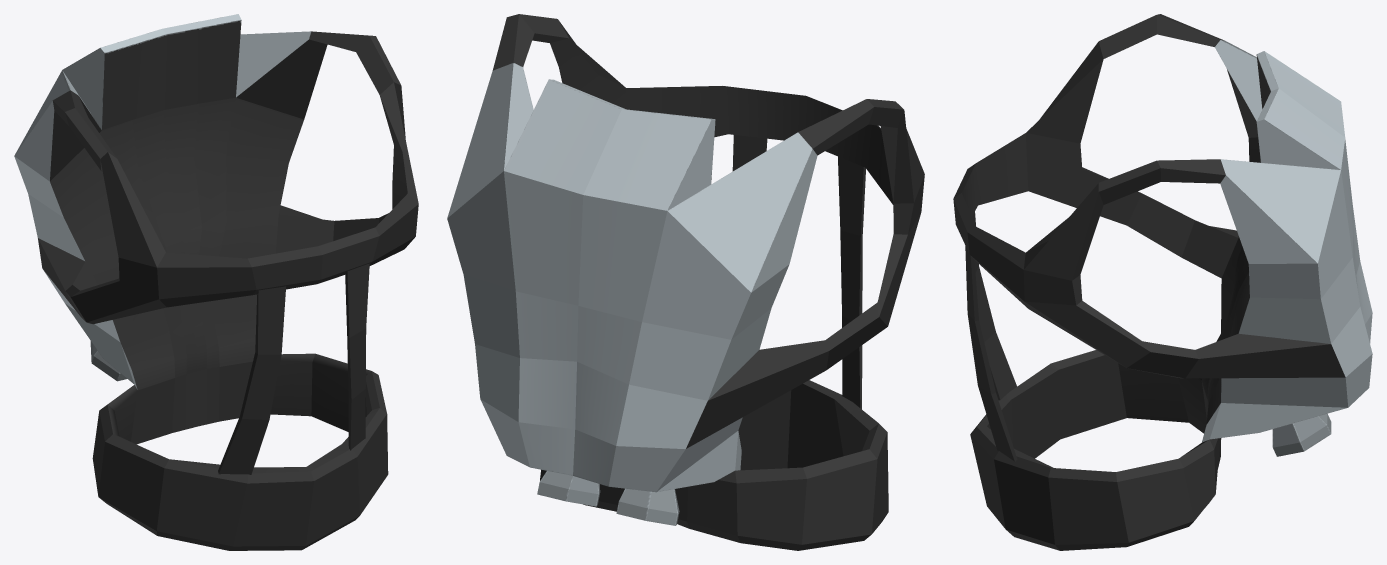
Rendered from Jetpack.fbx.
The picture shows the model from 3 angles, left to right: view 1: azimuth 30°, elevation 25°; view 2: azimuth 150°, elevation 25°; view 3: azimuth 270°, elevation 25°; orthographic projection. The views are drawn at different scales.
Parts seen in each view (by area): view 1: spaceman_MESH; view 2: spaceman_MESH; view 3: spaceman_MESH.
Part boxes in pixels (x1=…): spaceman_MESH: x1=14, y1=14, x2=418, y2=550; spaceman_MESH: x1=447, y1=14, x2=924, y2=550; spaceman_MESH: x1=953, y1=14, x2=1372, y2=550.
Bounding box in the file's own units: 1.89 × 2.45 × 2.17.
